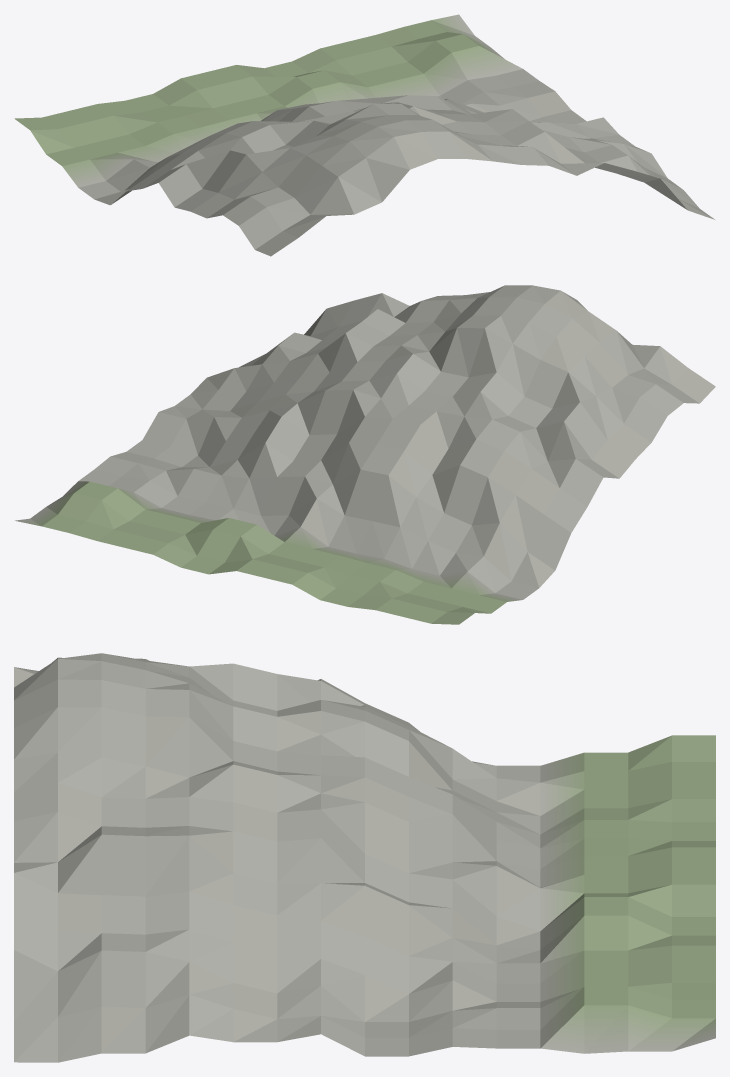
3 renders of one model, top to bottom at view 1: azimuth 30°, elevation 25°; view 2: azimuth 150°, elevation 25°; view 3: azimuth 270°, elevation 25°, orthographic. The views are drawn at different scales.
Bounding box in the file's own units: 32 × 10.06 × 32.
